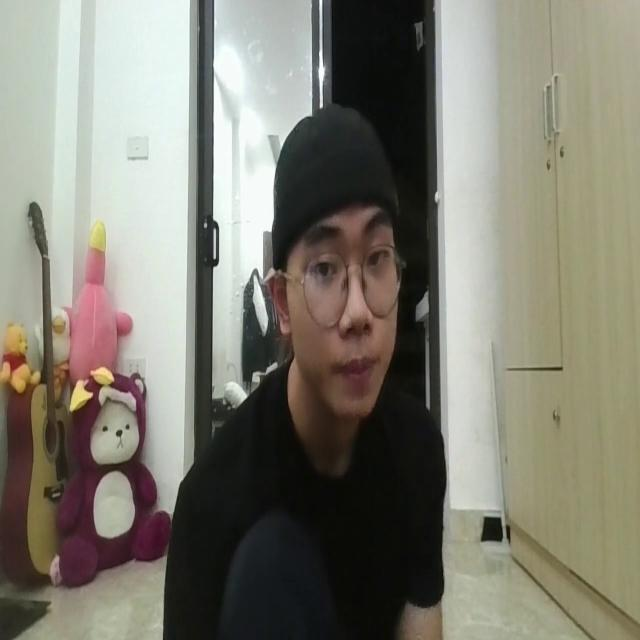student: (163, 98, 447, 640)
